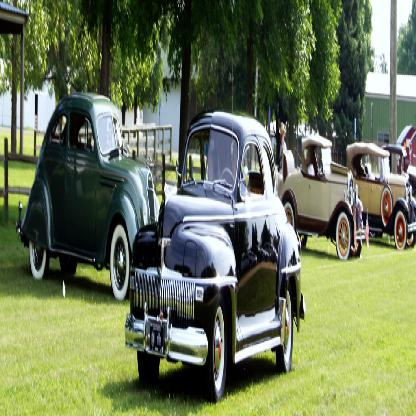Car: (15, 62, 416, 398)
